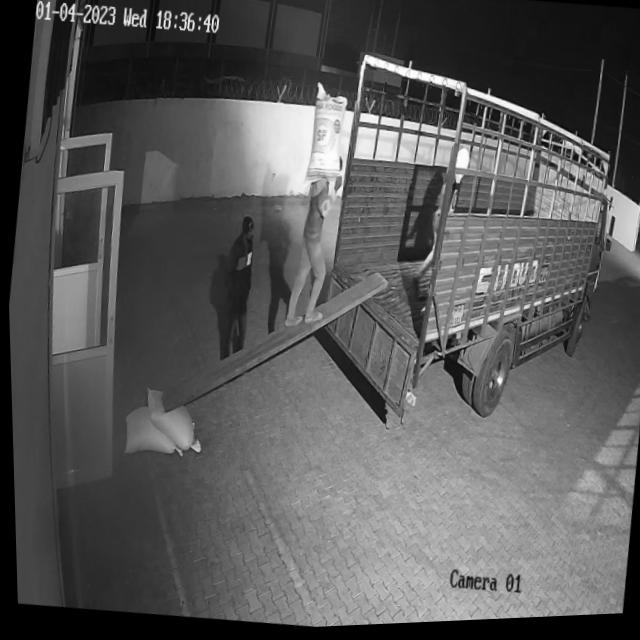sack: (298, 83, 352, 190), (135, 384, 205, 457), (118, 403, 185, 462)
